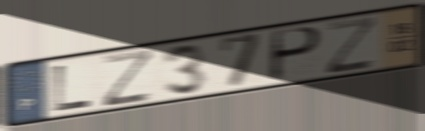3: (161, 41, 209, 97)
7: (217, 32, 264, 90)
L: (51, 62, 95, 114)
P: (268, 25, 325, 84)
Z: (324, 14, 381, 77), (101, 46, 157, 110)
